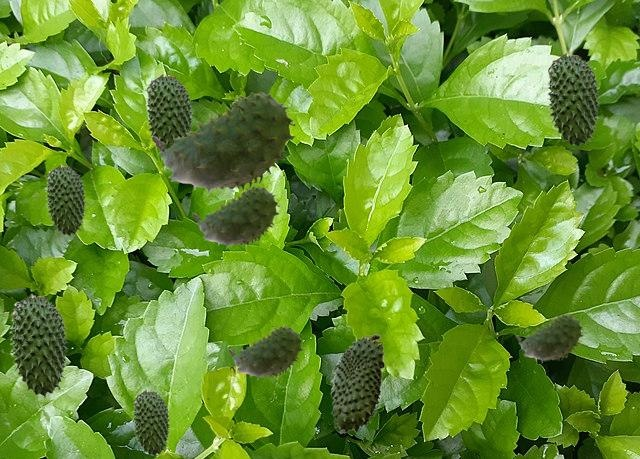guyabano: (151, 92, 294, 195), (9, 293, 67, 396), (192, 186, 278, 248), (330, 334, 384, 432), (546, 52, 599, 146), (228, 326, 302, 379), (145, 73, 192, 151), (515, 314, 582, 362), (45, 164, 85, 235), (132, 389, 169, 455)
